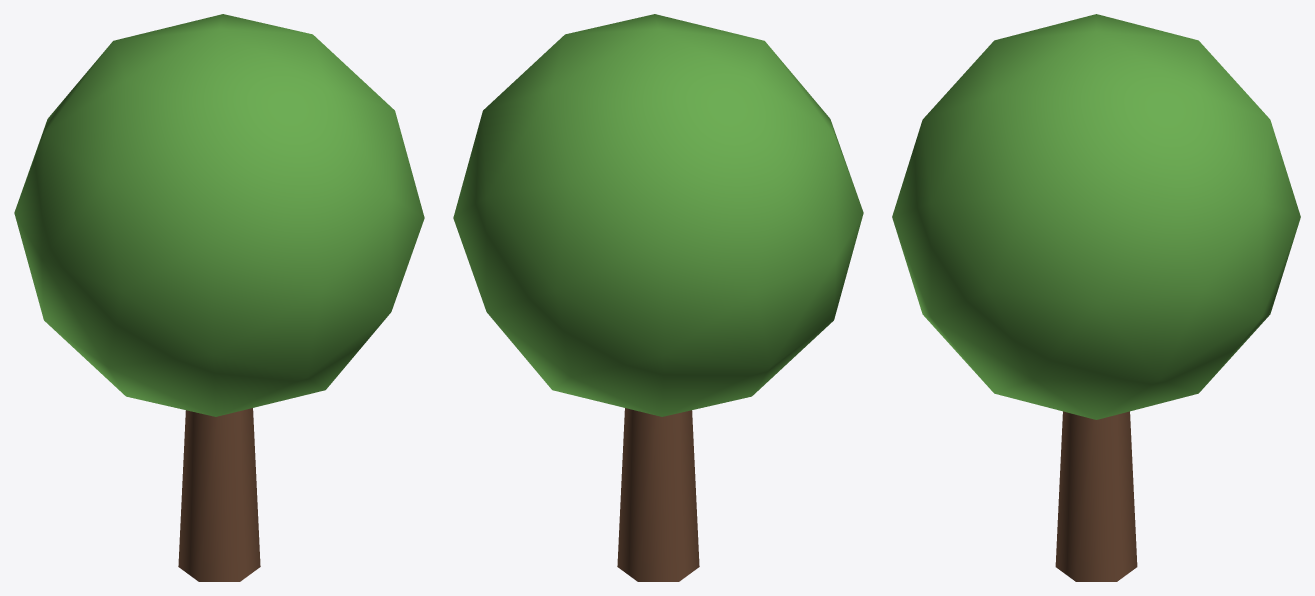
The model's file is demo_tree.glb.
The picture shows the model from 3 angles, left to right: view 1: azimuth 30°, elevation 25°; view 2: azimuth 150°, elevation 25°; view 3: azimuth 270°, elevation 25°; orthographic projection.
Size of the model in its own units: 1.8 by 2.6 by 1.8.
